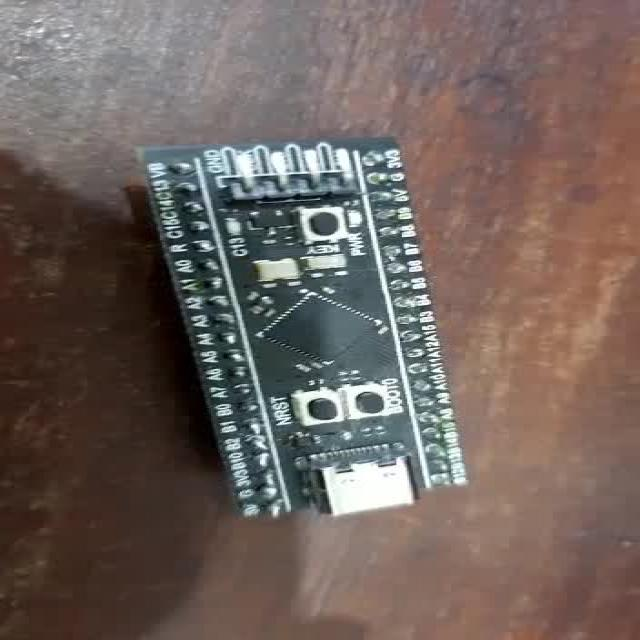stm32: (107, 140, 494, 523)
